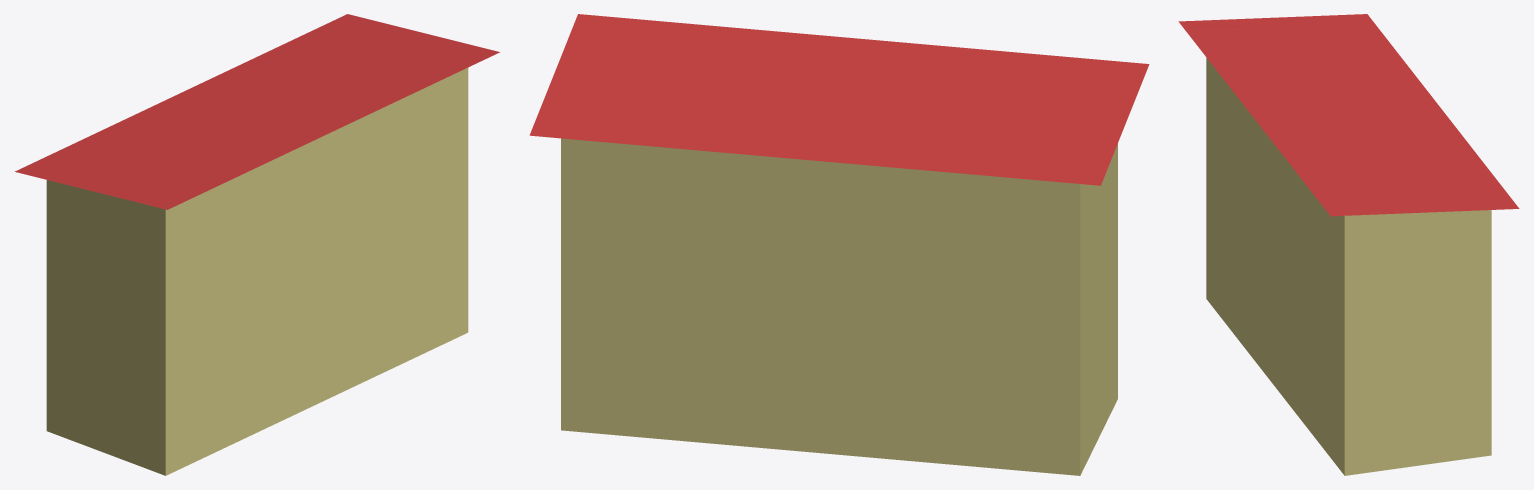
3 views of the same model, side by side, from view 1: azimuth 30°, elevation 25°; view 2: azimuth 150°, elevation 25°; view 3: azimuth 270°, elevation 25° (orthographic). The views are drawn at different scales.
Bounding box in the file's own units: 11.82 × 7.7 × 6.76.
